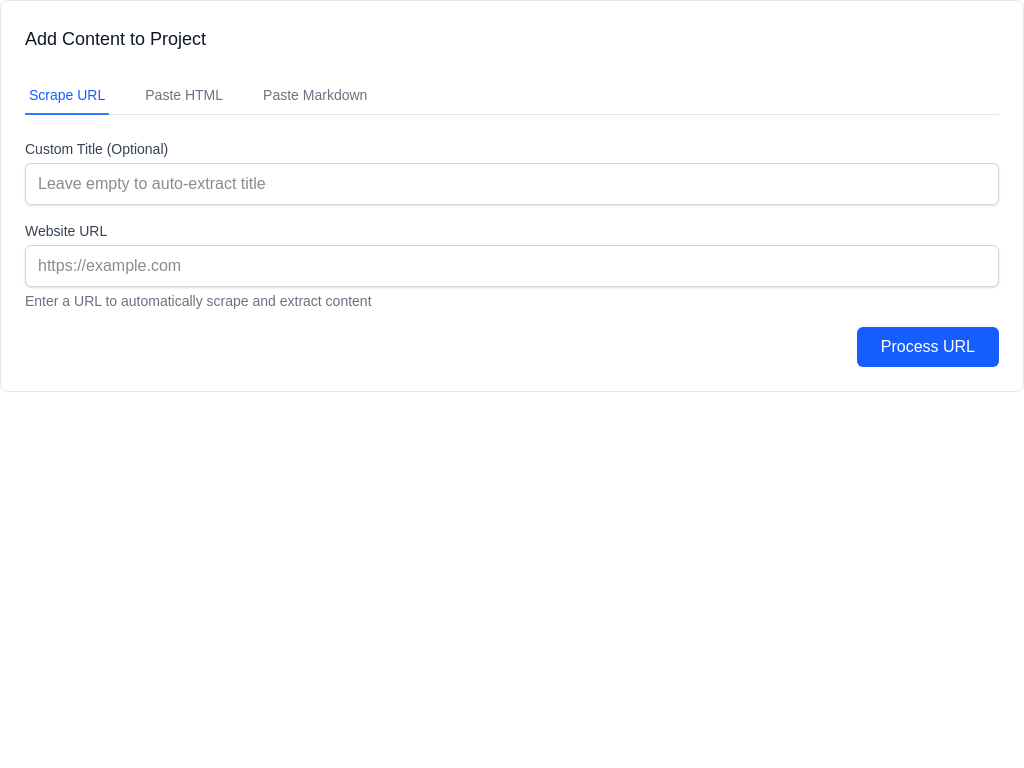
Test: ContentIngestionForm › should switch to Markdown tab when clicked
Click the button "Paste Markdown" at (315,96), box [259,77,371,115]
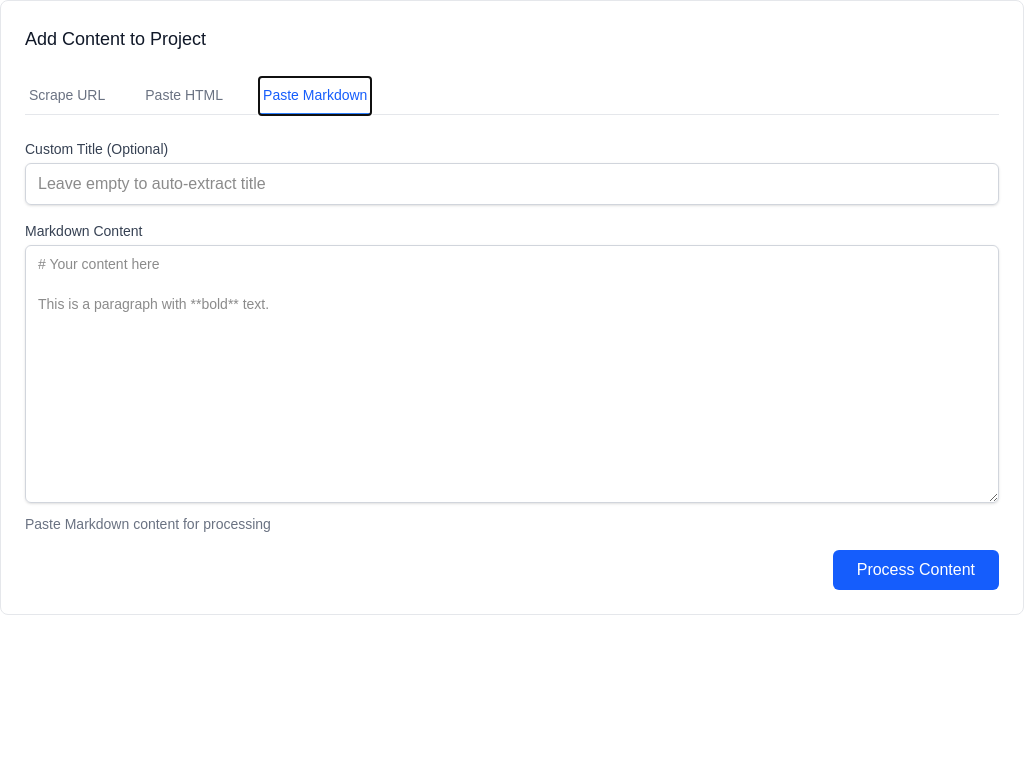
Result: the text box with placeholder "# Your content here This is a paragraph with **bold** text." is shown at [25,245,999,503]
